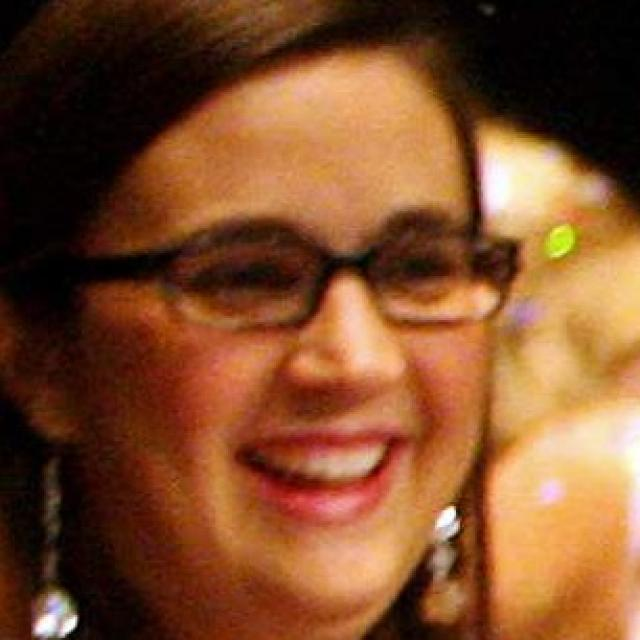Normal: (77, 37, 496, 627)
